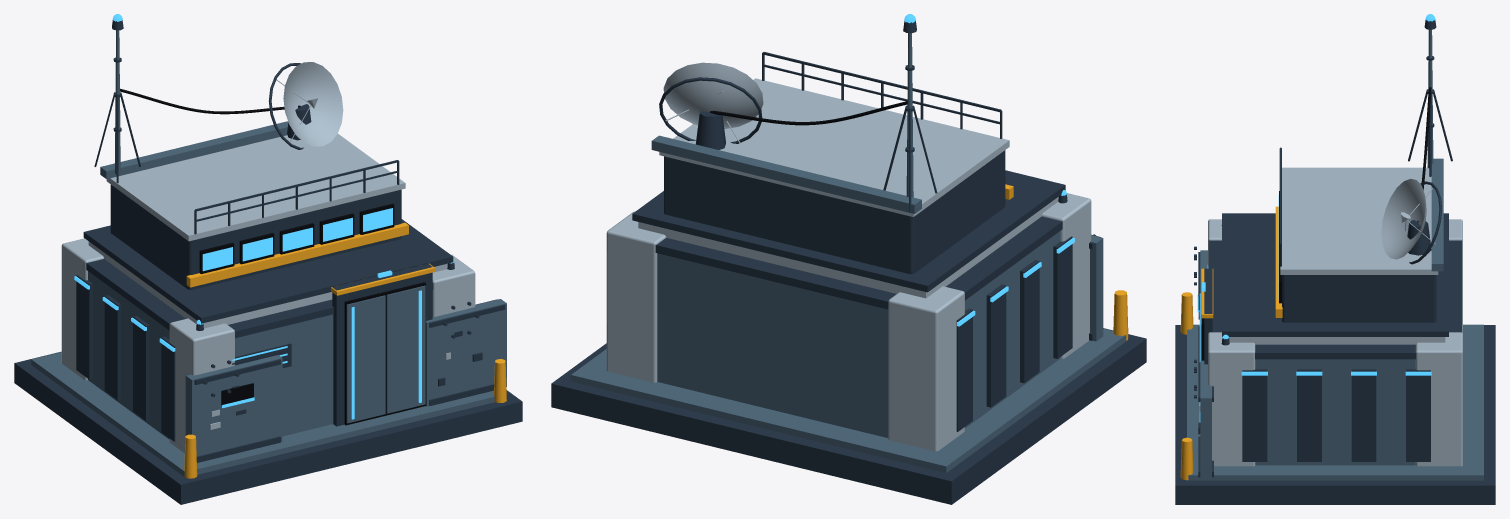
File: command_center.glb
3 views of the same model, side by side, from view 1: azimuth 30°, elevation 25°; view 2: azimuth 150°, elevation 25°; view 3: azimuth 270°, elevation 25° (orthographic). The views are drawn at different scales.
Parts seen in each view (by area): view 1: Hull, Bridge, CommandCentre, Door, ArmourWall, ArmourWall_2, CornerArmour_2, Dish_Bowl, CornerArmour, CornerArmour_4, Railing, Mast (+2 smaller); view 2: Hull, Bridge, CommandCentre, CornerArmour, CornerArmour_3, Dish_Bowl, CornerArmour_2, Railing, Mast, ArmourWall, DishYoke, Dish (+1 smaller); view 3: Hull, Bridge, CommandCentre, CornerArmour_3, CornerArmour_4, Dish_Bowl, ArmourWall_2, Door, Mast, DishYoke, ArmourWall, CornerArmour.
Boxes of the visible parts, x1=… form: Hull: x1=74, y1=219, x2=506, y2=478; Bridge: x1=100, y1=121, x2=408, y2=289; CommandCentre: x1=14, y1=351, x2=522, y2=504; Door: x1=331, y1=263, x2=435, y2=426; ArmourWall: x1=185, y1=355, x2=282, y2=462; ArmourWall_2: x1=426, y1=299, x2=506, y2=406; CornerArmour_2: x1=169, y1=318, x2=234, y2=453; Dish_Bowl: x1=283, y1=62, x2=343, y2=146; CornerArmour: x1=61, y1=238, x2=103, y2=380; CornerArmour_4: x1=432, y1=254, x2=475, y2=316; Railing: x1=194, y1=160, x2=399, y2=234; Mast: x1=94, y1=30, x2=140, y2=182; Hull: x1=632, y1=170, x2=1128, y2=437; Bridge: x1=651, y1=78, x2=1013, y2=274; CommandCentre: x1=551, y1=328, x2=1146, y2=504; CornerArmour: x1=888, y1=286, x2=964, y2=451; CornerArmour_3: x1=606, y1=211, x2=666, y2=382; Dish_Bowl: x1=663, y1=62, x2=763, y2=128; CornerArmour_2: x1=1041, y1=193, x2=1091, y2=358; Railing: x1=762, y1=52, x2=1002, y2=138; Mast: x1=883, y1=33, x2=937, y2=212; ArmourWall: x1=1089, y1=234, x2=1103, y2=341; DishYoke: x1=696, y1=111, x2=725, y2=149; Dish: x1=659, y1=77, x2=762, y2=143; Hull: x1=1180, y1=213, x2=1461, y2=480; Bridge: x1=1275, y1=158, x2=1443, y2=322; CommandCentre: x1=1175, y1=324, x2=1495, y2=504; CornerArmour_3: x1=1415, y1=332, x2=1462, y2=466; CornerArmour_4: x1=1208, y1=332, x2=1255, y2=466; Dish_Bowl: x1=1381, y1=178, x2=1426, y2=259; ArmourWall_2: x1=1198, y1=360, x2=1213, y2=478; Door: x1=1199, y1=268, x2=1213, y2=422; Mast: x1=1408, y1=29, x2=1452, y2=176; DishYoke: x1=1407, y1=220, x2=1431, y2=255; ArmourWall: x1=1197, y1=250, x2=1207, y2=362; CornerArmour: x1=1449, y1=219, x2=1462, y2=333.
Bounding box in the file's own units: 7.12 × 7.5 × 6.01.
